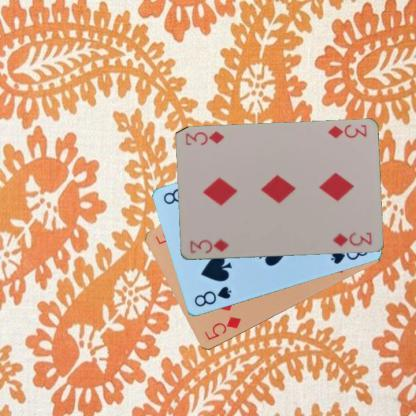3d: (187, 236, 230, 255), (324, 122, 368, 140)
5d: (202, 314, 242, 342)
8s: (191, 284, 233, 308)
